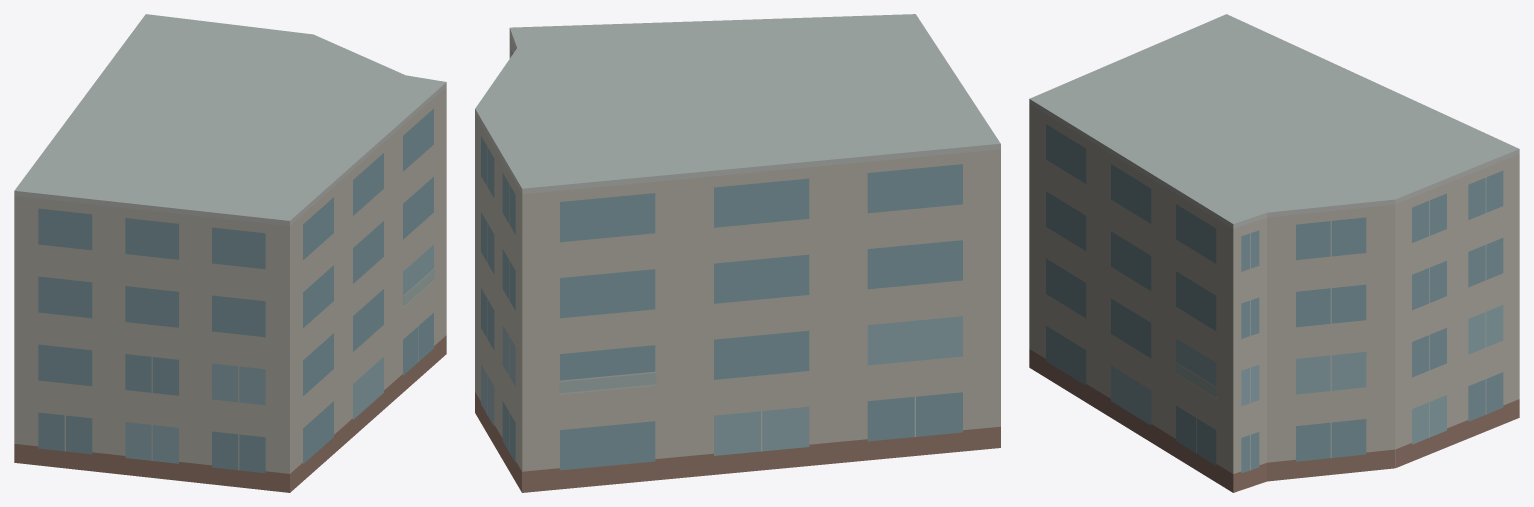
The model's file is survey-upis-32780662.glb.
3 views of the same model, side by side, from view 1: azimuth 30°, elevation 25°; view 2: azimuth 150°, elevation 25°; view 3: azimuth 270°, elevation 25° (orthographic). The views are drawn at different scales.
Parts seen in each view (by area): view 1: survey-upis-32780662.tmp; view 2: survey-upis-32780662.tmp; view 3: survey-upis-32780662.tmp.
Part boxes in pixels (<box>): survey-upis-32780662.tmp: <box>14,14,446,492</box>; survey-upis-32780662.tmp: <box>475,14,1000,492</box>; survey-upis-32780662.tmp: <box>1029,14,1519,492</box>.
Size of the model in its own units: 22.39 by 13.35 by 22.08.
